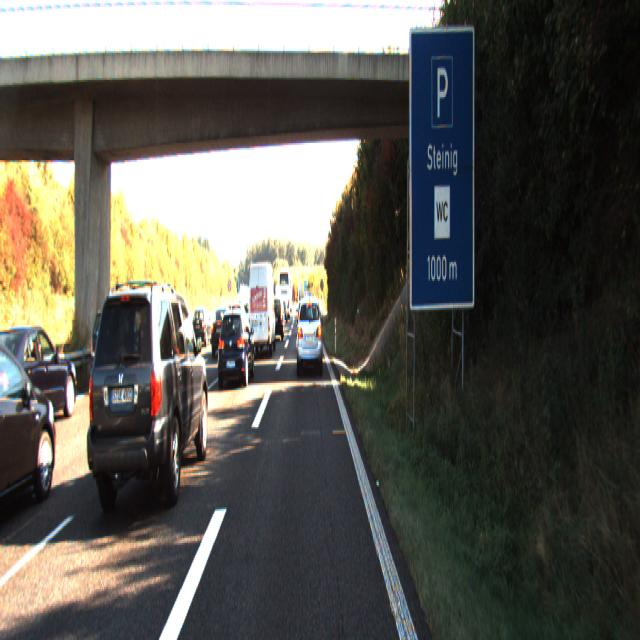Car: (84, 276, 210, 523), (0, 328, 61, 535), (0, 320, 79, 445), (91, 308, 146, 394), (145, 311, 198, 399), (217, 308, 254, 390), (296, 293, 322, 374), (268, 300, 284, 346)
Van: (246, 260, 276, 357)
